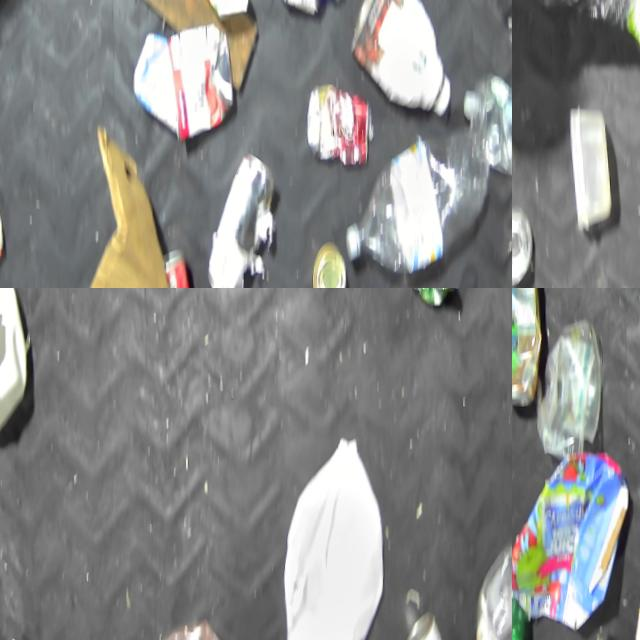can: (201, 153, 279, 288), (165, 24, 240, 150), (304, 90, 375, 181), (150, 249, 202, 288), (512, 204, 535, 288), (401, 611, 467, 640), (310, 244, 351, 288), (407, 288, 463, 319)
milk_jug: (276, 434, 389, 640)
plastic_bottle: (343, 133, 493, 288), (461, 75, 512, 198)
